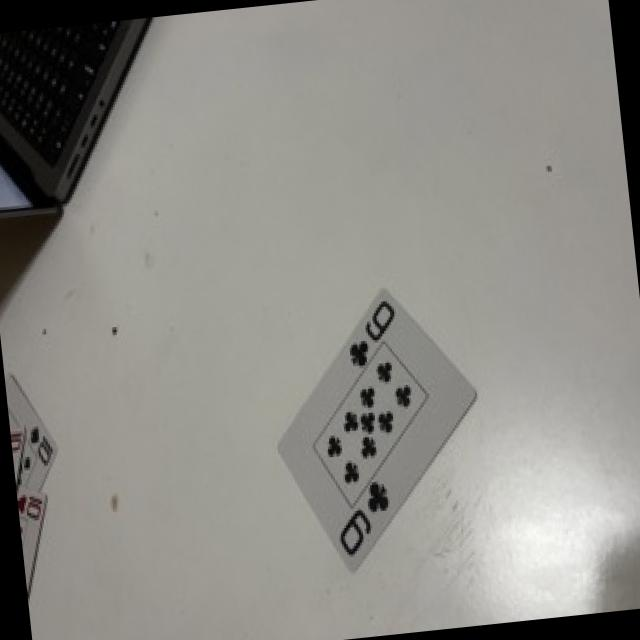9 of clubs: (278, 290, 475, 568)
